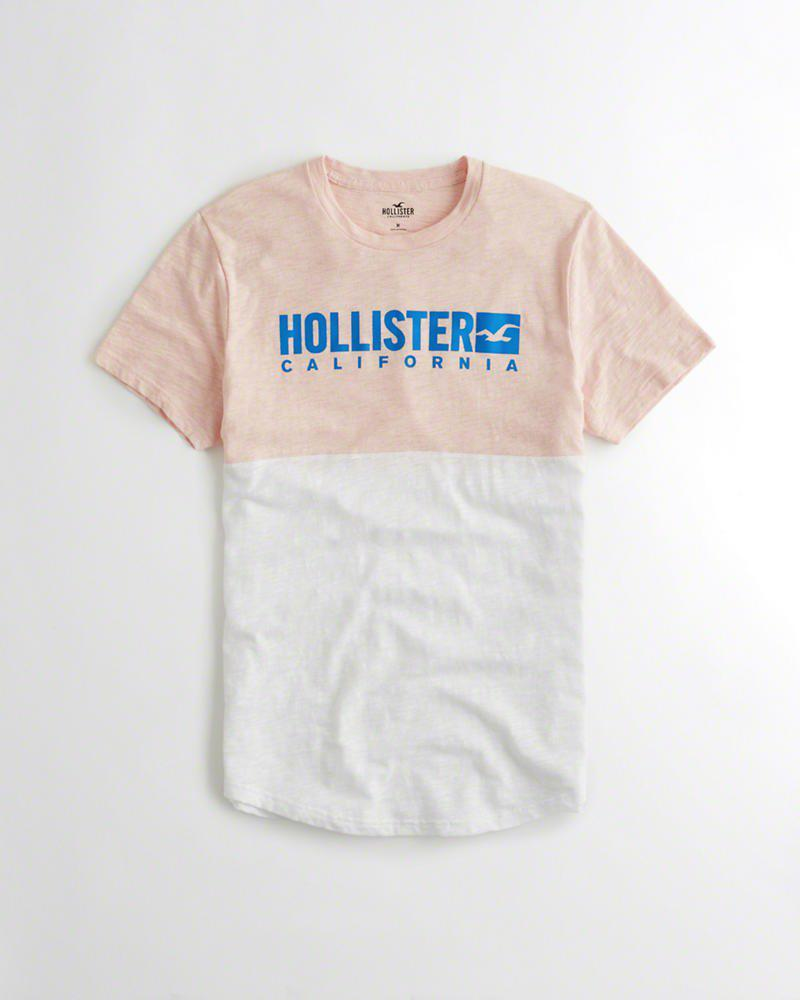teeshirt: (100, 143, 721, 853)
